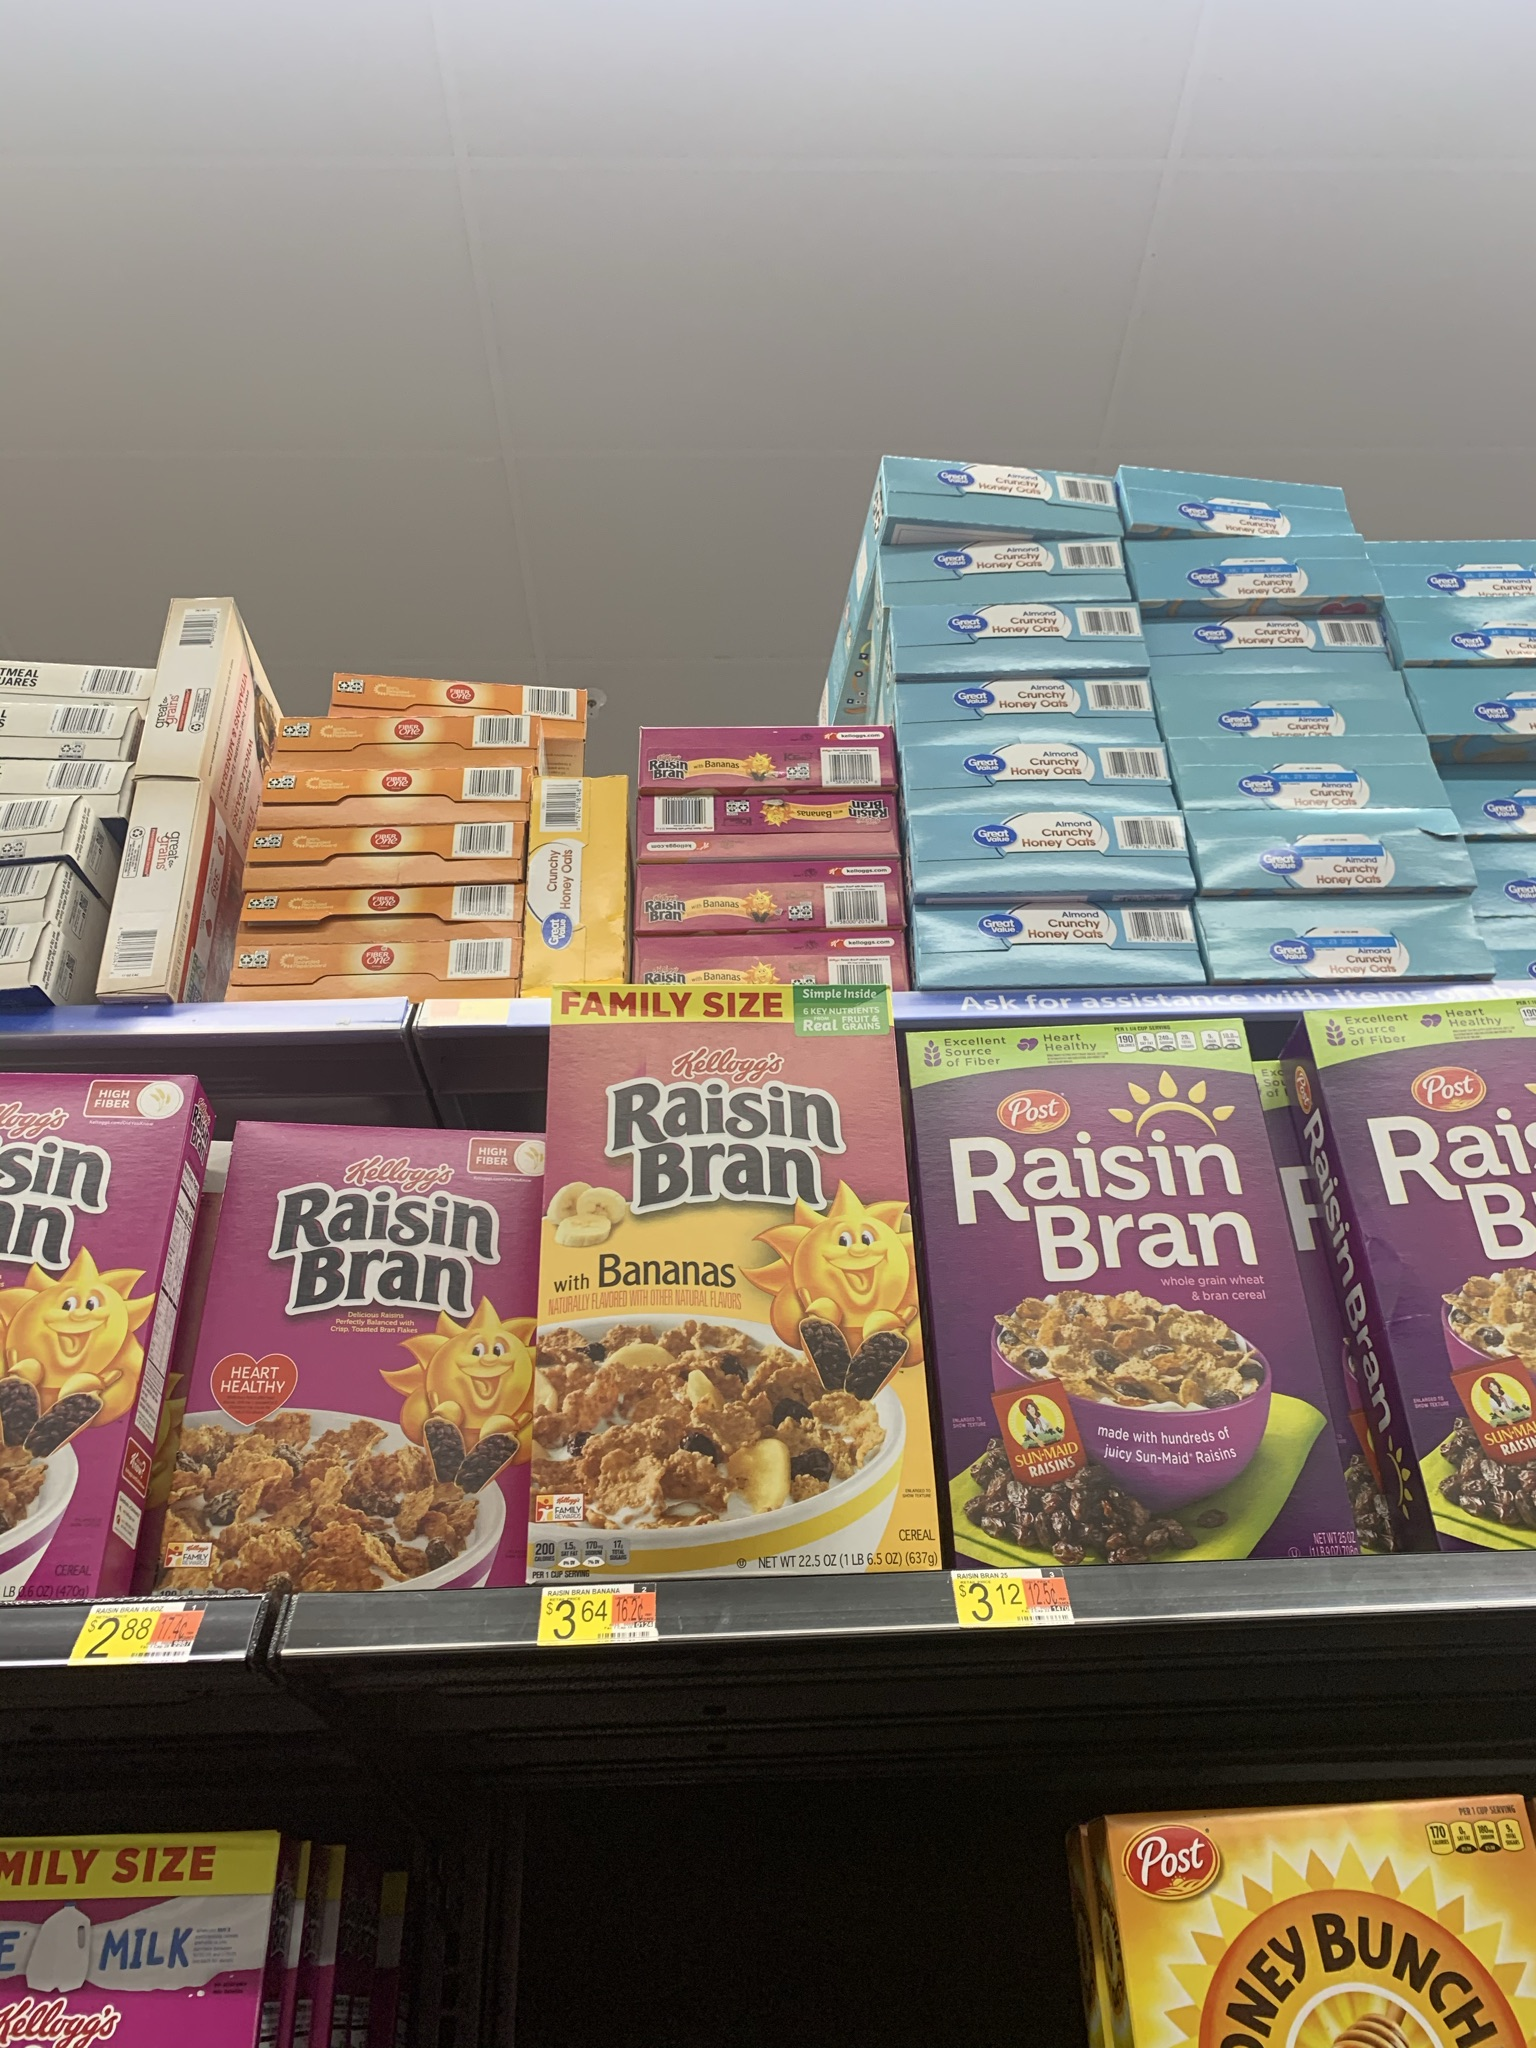Cereal raisin: (921, 1035, 1357, 1530), (565, 1006, 942, 1576), (1304, 998, 1536, 1535), (269, 1143, 516, 1564)
